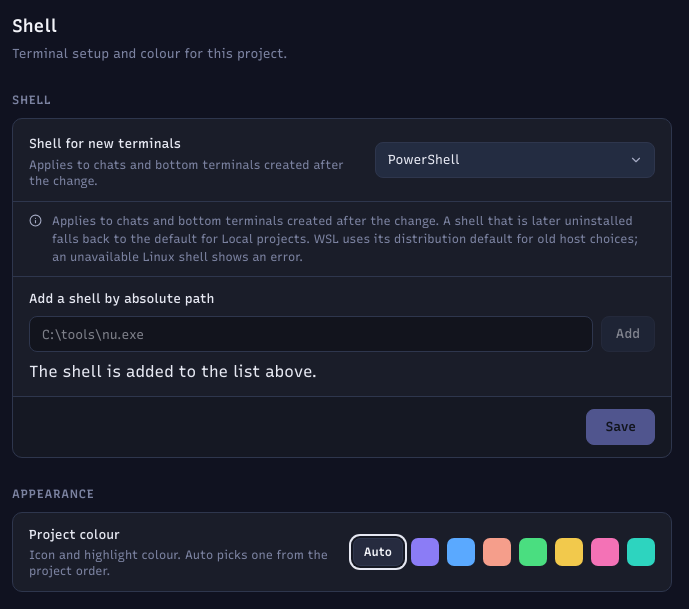
it: ShellTab › saves a non-default choice under the project shell key
This screenshot has width=689, height=609.
Select "WSL: Ubuntu-24.04" in the dropdown with test id "settings-shell-select": (515, 160) [375,142,655,178]
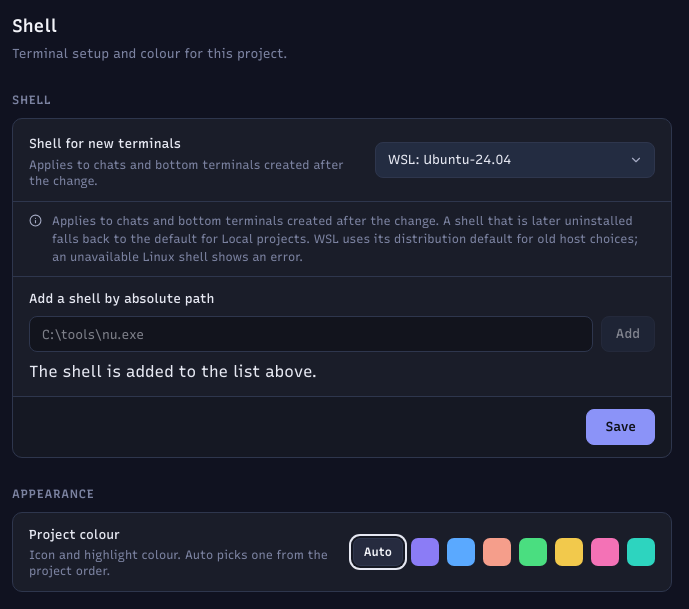
Click the button with test id "settings-shell-save": click(621, 427) [586,409,655,445]
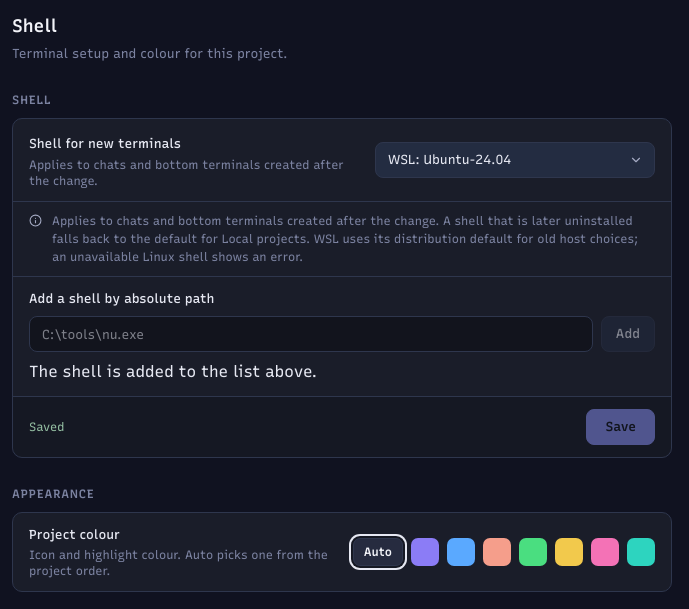
Expected: the text "Saved" is shown, [29,420,64,434]
